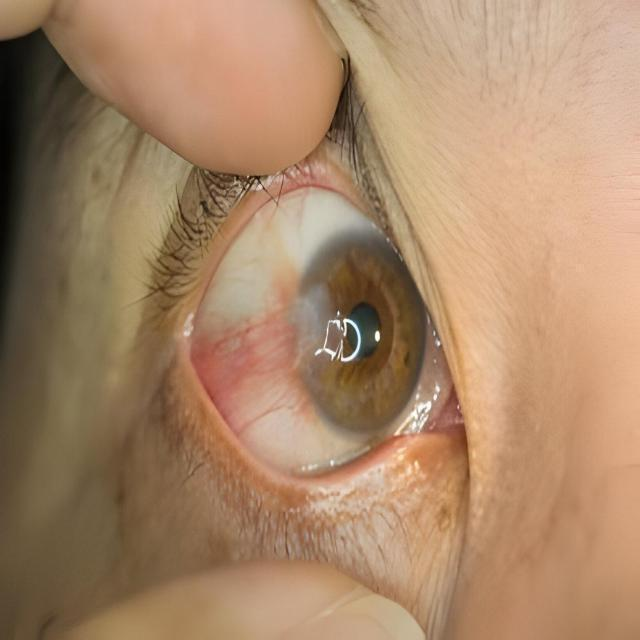Pterygium: (180, 284, 340, 414)
